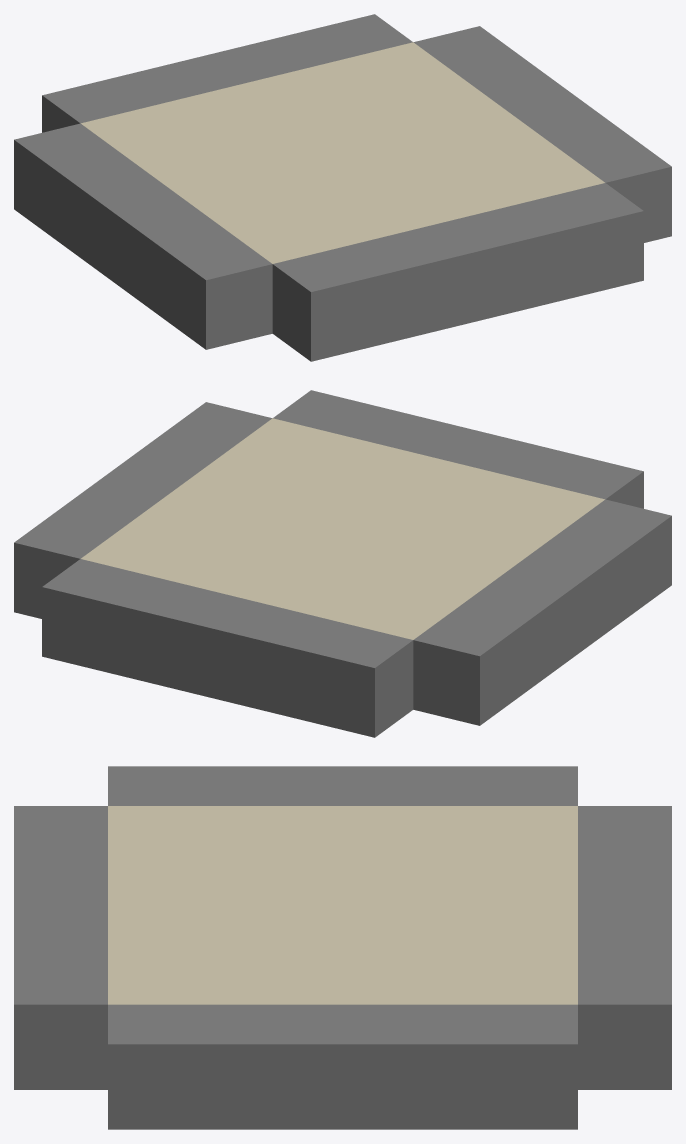
File: Picnic_Plate_01.glb
3 renders of one model, top to bottom at view 1: azimuth 30°, elevation 25°; view 2: azimuth 150°, elevation 25°; view 3: azimuth 270°, elevation 25°, orthographic. The views are drawn at different scales.
Visible parts, largest first — view 1: Picnic_Plate_01; view 2: Picnic_Plate_01; view 3: Picnic_Plate_01.
Part boxes in pixels (x1=…): Picnic_Plate_01: x1=14, y1=14, x2=671, y2=361; Picnic_Plate_01: x1=14, y1=390, x2=671, y2=737; Picnic_Plate_01: x1=14, y1=766, x2=671, y2=1129.
Bounding box in the file's own units: 0.7 × 0.1 × 0.7.
1 material, 1 textured.
